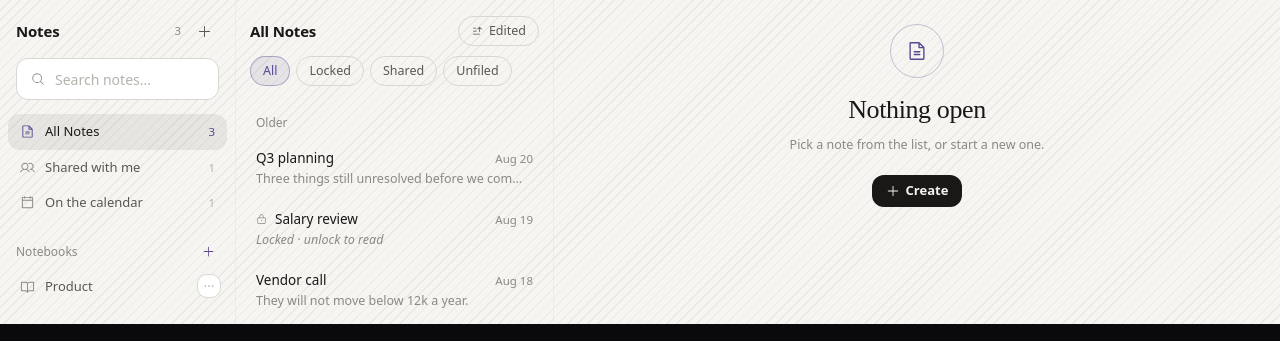
Test: NotesWorkspace › switches to the notes shared with you
What coordinates should you click on to do the following:
click the button "Shared with me 1"
I would click on:
 (118, 167)
Its box is [8,150,227,185].
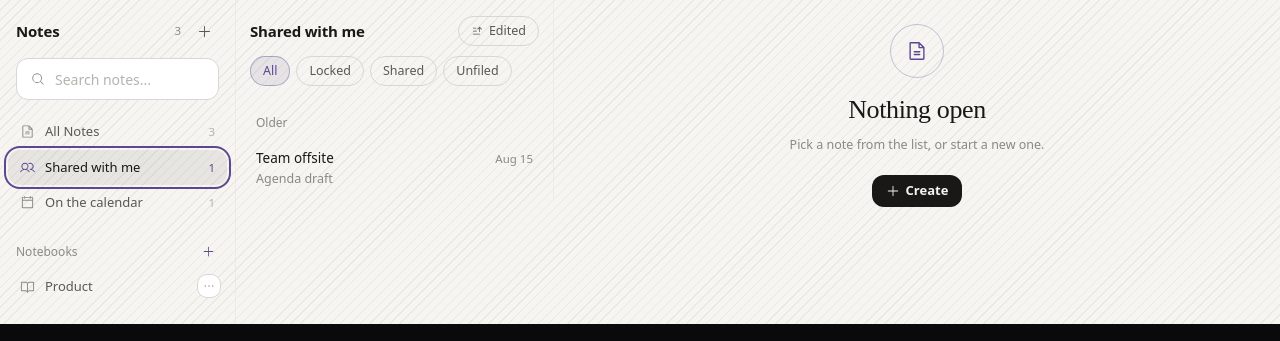
Check: the button "Team offsite Aug 15 Agenda draft" is shown, box [244,138,545,199]
Check: the button "Q3 planning" is gone
